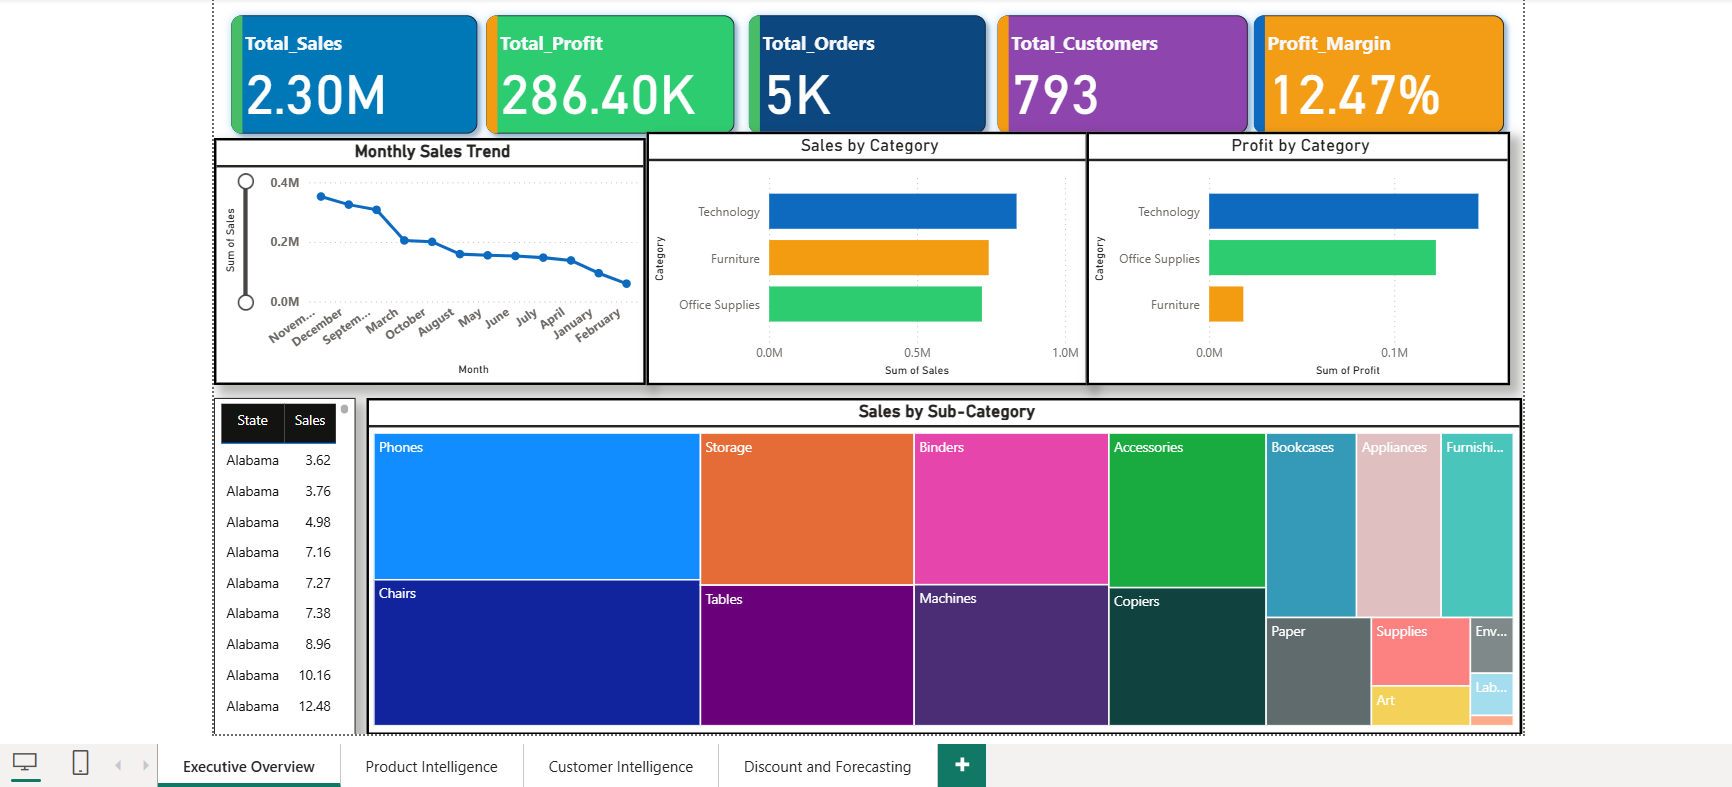

This screenshot's page, from the dashboard's own definition file:
{"tool":"powerbi","page":{"name":"Executive Overview","canvas":[1280,720],"ordinal":0},"visuals":[{"type":"cardVisual","fields":{"Data":["Retail_Sales_Cleaned.Total_Sales"]},"box":[0,0,275.8,150.9],"z":0},{"type":"cardVisual","fields":{"Data":["Retail_Sales_Cleaned.Total_Customers"]},"box":[749.2,0,279.9,150.9],"z":1000},{"type":"cardVisual","fields":{"Data":["Retail_Sales_Cleaned.Profit_Margin"]},"box":[1000.3,0,279.9,150.9],"z":2000},{"type":"cardVisual","fields":{"Data":["Retail_Sales_Cleaned.Total_Profit"]},"box":[249.7,0,277.2,150.9],"z":3000},{"type":"cardVisual","fields":{"Data":["Retail_Sales_Cleaned.Total_Orders"]},"box":[506.3,0,266.2,150.9],"z":4000},{"type":"lineChart","title":"Monthly Sales Trend","fields":{"Category":["Retail_Sales_Cleaned.Month"],"Y":["Sum(Retail_Sales_Cleaned.Sales)"]},"box":[0,137.2,422.6,241.5],"z":5000},{"type":"clusteredBarChart","title":"Sales by Category","fields":{"Category":["Retail_Sales_Cleaned.Category"],"Y":["Sum(Retail_Sales_Cleaned.Sales)"]},"box":[422.6,130.4,432.2,248.4],"z":6000},{"type":"clusteredBarChart","title":"Profit by Category","fields":{"Category":["Retail_Sales_Cleaned.Category"],"Y":["Sum(Retail_Sales_Cleaned.Profit)"]},"box":[853.5,130.4,414.4,248.4],"z":7000},{"type":"tableEx","title":"Region Performance","fields":{"Values":["Retail_Sales_Cleaned.State","Retail_Sales_Cleaned.Sales"]},"box":[0,391.1,138.6,329.3],"z":8000},{"type":"treemap","title":"Sales by Sub-Category","fields":{"Group":["Retail_Sales_Cleaned.Sub-Category"],"Values":["Sum(Retail_Sales_Cleaned.Sales)"]},"box":[149.6,391.1,1130.7,329.3],"z":9000},{"type":"actionButton","box":[0,0,100,40],"z":10000}]}

Visuals, with their boxes on the page's 1280x720 design canvas (x1, y1, x2, y2). These are canvas units, not pixel positions in the 1732x787 screenshot, which may show the page scaled, cropped or inside an application window:
cardVisual - Retail_Sales_Cleaned.Total_Sales: 0/0/276/151
cardVisual - Retail_Sales_Cleaned.Total_Customers: 749/0/1029/151
cardVisual - Retail_Sales_Cleaned.Profit_Margin: 1000/0/1280/151
cardVisual - Retail_Sales_Cleaned.Total_Profit: 250/0/527/151
cardVisual - Retail_Sales_Cleaned.Total_Orders: 506/0/772/151
"Monthly Sales Trend" lineChart: 0/137/423/379
"Sales by Category" clusteredBarChart: 423/130/855/379
"Profit by Category" clusteredBarChart: 854/130/1268/379
"Region Performance" tableEx: 0/391/139/720
"Sales by Sub-Category" treemap: 150/391/1280/720
actionButton: 0/0/100/40
